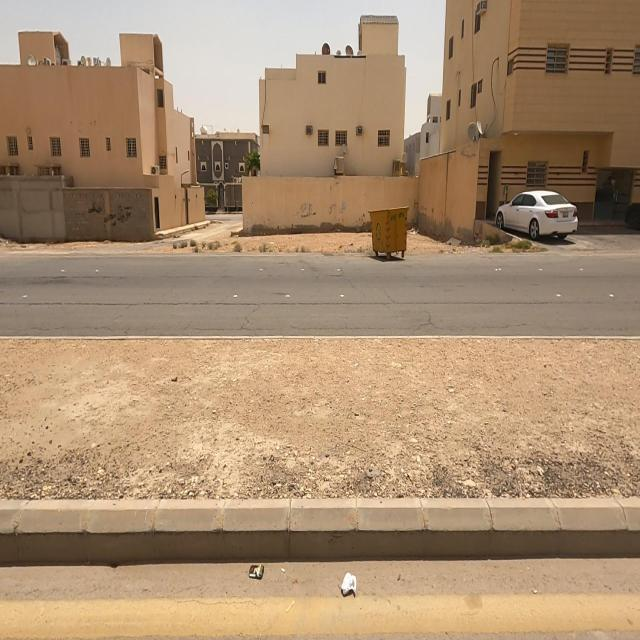Graffiti: (88, 199, 134, 230), (293, 201, 317, 220), (341, 202, 348, 214), (330, 206, 337, 217)
